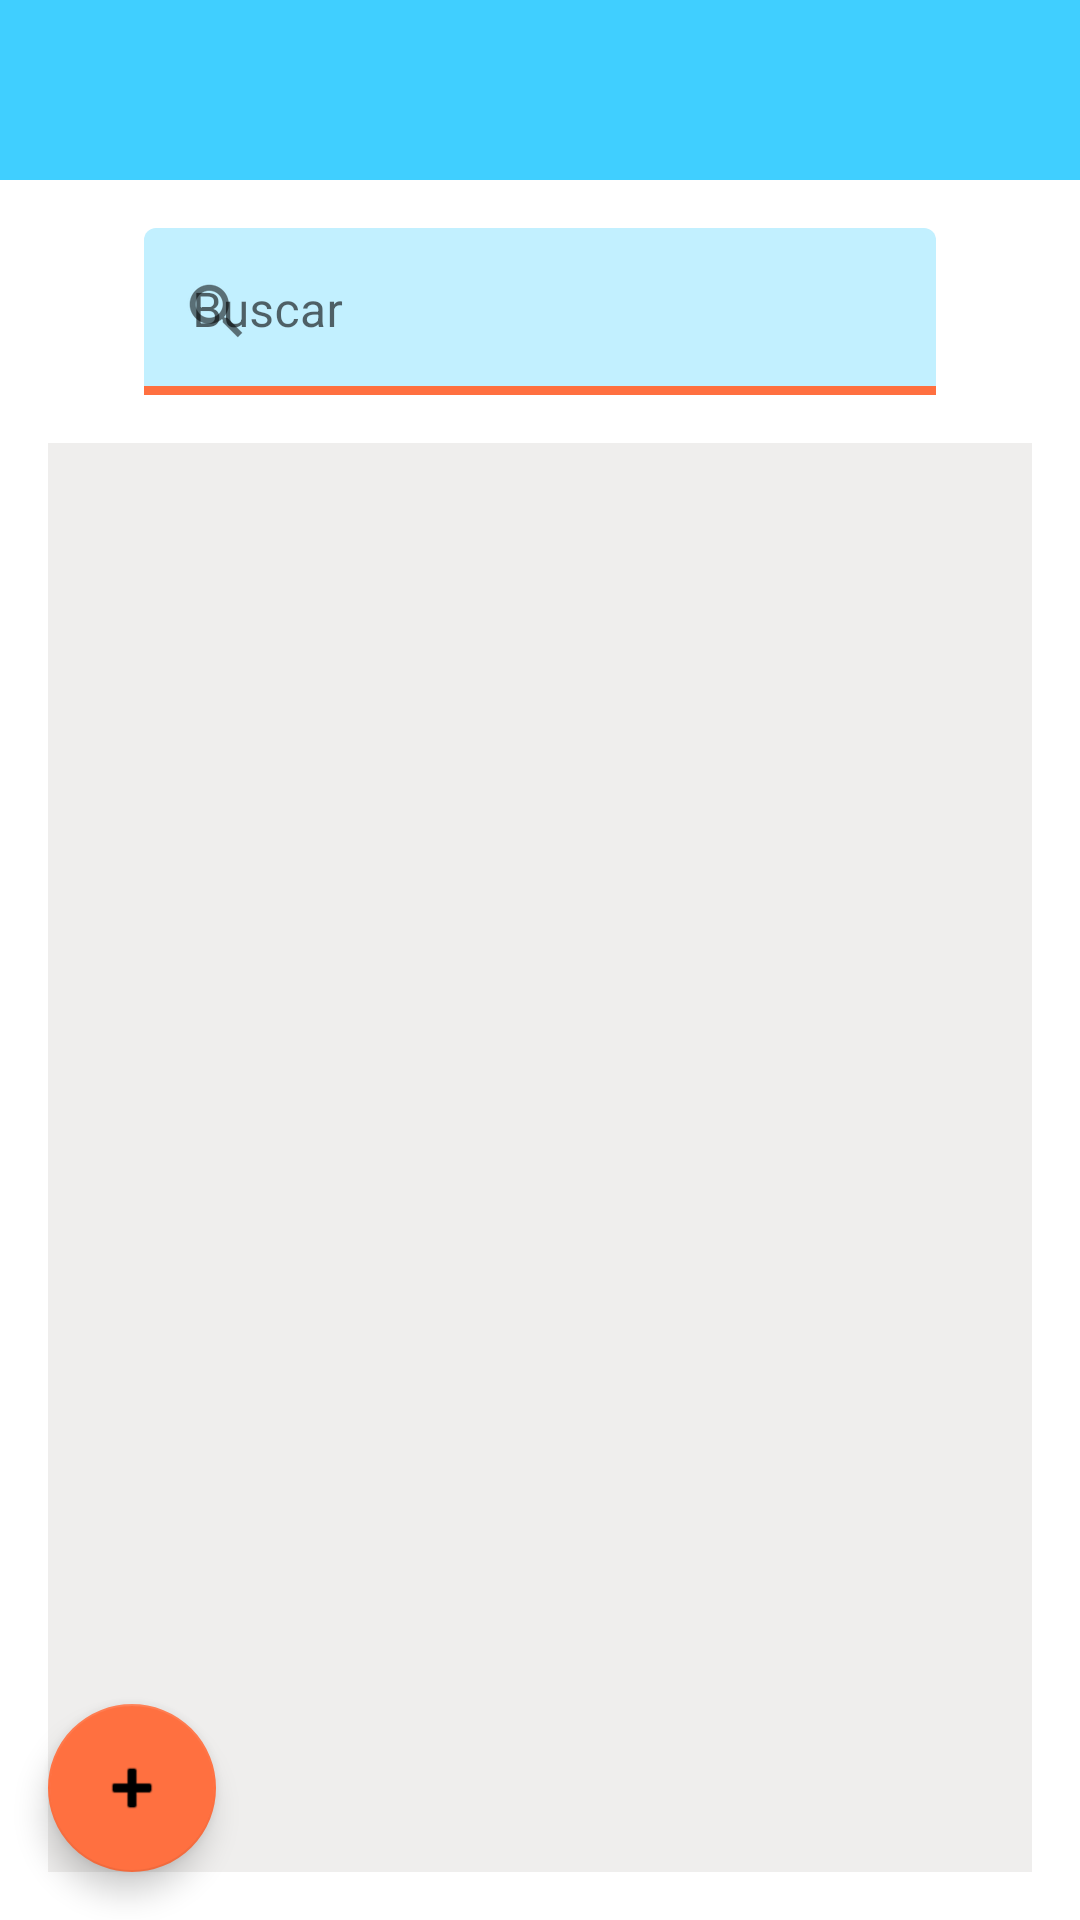

Named icons in this screenshot (1080 × 1920) and their bounding boxes, BBox(x1, y1, x2, y2):
add: BBox(48, 1704, 216, 1872)
